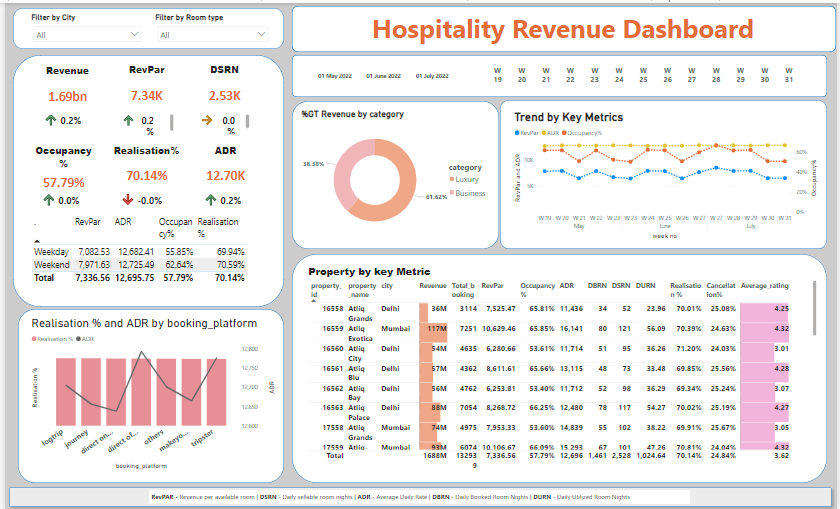

The page's visual inventory and layout, read from the dashboard file:
{"tool":"powerbi","page":{"name":"ashboard","canvas":[1800,1100],"ordinal":0},"visuals":[{"type":"shape","box":[621.5,6.5,1178,99.6],"z":0},{"type":"shape","box":[0,1039.4,1799.4,60.6],"z":1000},{"type":"shape","box":[17.3,10.8,586.8,88.8],"z":2000},{"type":"shape","box":[621.5,543.5,1158.5,495.9],"z":3000},{"type":"shape","box":[1071.9,210,708.1,322.6],"z":4000},{"type":"shape","box":[621.5,112.6,1158.5,90.9],"z":5000},{"type":"tableEx","fields":{"Values":["Key_matrics.Revenue WoW change %"]},"box":[75.7,205.1,121,85.8],"z":5000,"group":"g2"},{"type":"tableEx","fields":{"Values":["Key_matrics.Revpar WoW change %"]},"box":[243.7,207.7,125.6,84.4],"z":5000,"group":"g3"},{"type":"card","title":"RevPar","fields":{"Values":["Key_matrics.RevPar"]},"box":[222,130.1,167.2,112.2],"z":6000,"group":"g3"},{"type":"card","title":"Revenue","fields":{"Values":["Key_matrics.Revenue"]},"box":[61.4,131.2,149.6,110],"z":6000,"group":"g2"},{"type":"shape","box":[621.5,212.2,448.2,320.5],"z":6000},{"type":"shape","box":[17.3,112.6,586.8,545.7],"z":7000},{"type":"tableEx","fields":{"Values":["Key_matrics.ADR WoW change %"]},"box":[422.2,380.5,112.2,83.6],"z":7000,"group":"g6"},{"type":"tableEx","fields":{"Values":["Key_matrics.Realisation WoW change %"]},"box":[242.4,379,125.4,77],"z":8000,"group":"g5"},{"type":"shape","box":[28.1,662.6,576,376.8],"z":8000},{"type":"card","title":"Realisation%","fields":{"Values":["Key_matrics.Realisation %"]},"box":[222,306.4,167.2,107.8],"z":9000,"group":"g5"},{"type":"tableEx","title":"Property by key Metric","fields":{"Values":["dim_hotels.property_id","dim_hotels.property_name","dim_hotels.city","Key_matrics.Revenue","Key_matrics.Total_booking","Key_matrics.RevPar","Key_matrics.Occupancy%","Key_matrics.ADR","Key_matrics.DBRN","Key_matrics.DSRN","Key_matrics.DURN","Key_matrics.Realisation %"]},"box":[651.8,565.2,1110.8,450.4],"z":9000},{"type":"slicer","title":"Filter by City","fields":{"Values":["dim_hotels.city"]},"box":[52,21.7,253.3,67.1],"z":10000},{"type":"tableEx","fields":{"Values":["Key_matrics.Occupancy WoW change %"]},"box":[71.8,379.4,110,85.8],"z":10000,"group":"g4"},{"type":"slicer","title":"Filter by Room type","fields":{"Values":["dim_rooms.room_class"]},"box":[320.5,21.7,259.8,67.1],"z":11000},{"type":"tableEx","fields":{"Values":["Key_matrics.DSRN WoW change %"]},"box":[416.4,207.3,118.8,81.4],"z":11000,"group":"g1"},{"type":"card","title":"Occupancy%","fields":{"Values":["Key_matrics.Occupancy%"]},"box":[52,306.4,149.6,107.8],"z":11000,"group":"g4"},{"type":"slicer","fields":{"Values":["dim_date.mmm yy"]},"box":[636.6,125.6,363.8,65],"z":12000},{"type":"card","title":"DSRN","fields":{"Values":["Key_matrics.DSRN"]},"box":[401,130.1,149.6,112.2],"z":12000,"group":"g1"},{"type":"slicer","fields":{"Values":["dim_date.week no"]},"box":[1015.6,119.1,731.9,71.5],"z":13000},{"type":"donutChart","fields":{"Category":["dim_hotels.category"],"Y":["Key_matrics.Revenue"]},"box":[636.6,229.5,420.1,285.8],"z":14000},{"type":"lineChart","title":"Trend by Key Metrics","fields":{"Category":["dim_date.mmm yy.Variation.Date Hierarchy.Month","dim_date.week no"],"Y":["Key_matrics.RevPar","Key_matrics.ADR"],"Y2":["Key_matrics.Occupancy%"]},"box":[1097.8,231.7,664.8,285.8],"z":15000},{"type":"card","title":"ADR","fields":{"Values":["Key_matrics.ADR"]},"box":[403.5,306.4,149.6,107.8],"z":16000,"group":"g6"},{"type":"lineStackedColumnComboChart","fields":{"Y2":["Key_matrics.ADR"],"Y":["Key_matrics.Realisation %"],"Category":["fact_bookings.booking_platform"]},"box":[52,677.8,537,337.8],"z":16000},{"type":"tableEx","fields":{"Values":["dim_date.day_type","Key_matrics.RevPar","Key_matrics.ADR","Key_matrics.Occupancy%","Key_matrics.Realisation %"]},"box":[52,454.7,519.7,175.4],"z":17000},{"type":"group","id":"g1","title":"Group 1","box":[401,130.1,149.6,158.6],"z":18000},{"type":"group","id":"g2","title":"Group 2","box":[61.4,131.2,149.6,159.7],"z":19000},{"type":"group","id":"g3","title":"Group 3","box":[222,130.1,167.2,162.1],"z":20000},{"type":"group","id":"g4","title":"Group 4","box":[52,306.4,149.6,158.8],"z":21000},{"type":"group","id":"g5","title":"Group 5","box":[222,306.4,167.2,149.6],"z":22000},{"type":"group","id":"g6","title":"Group 6","box":[403.5,306.4,149.6,157.7],"z":23000},{"type":"textbox","box":[311.8,1054.5,1171.5,30.3],"z":24000},{"type":"textbox","box":[636.6,10.8,1143.3,88.8],"z":25000}]}

Visuals, with their boxes in screenshot pixels (x1, y1, x2, y2), scaled from the page's 1800x1100 canvas onto the 840x509 screenshot:
shape: l=290, t=3, r=839, b=49
shape: l=0, t=481, r=839, b=508
shape: l=8, t=5, r=282, b=46
shape: l=290, t=251, r=831, b=481
shape: l=500, t=97, r=831, b=246
shape: l=290, t=52, r=831, b=94
tableEx - Key_matrics.Revenue WoW change %: l=35, t=95, r=92, b=135
tableEx - Key_matrics.Revpar WoW change %: l=114, t=96, r=172, b=135
"RevPar" card: l=104, t=60, r=182, b=112
"Revenue" card: l=29, t=61, r=98, b=112
shape: l=290, t=98, r=499, b=246
shape: l=8, t=52, r=282, b=305
tableEx - Key_matrics.ADR WoW change %: l=197, t=176, r=249, b=215
tableEx - Key_matrics.Realisation WoW change %: l=113, t=175, r=172, b=211
shape: l=13, t=307, r=282, b=481
"Realisation%" card: l=104, t=142, r=182, b=192
"Property by key Metric" tableEx: l=304, t=262, r=823, b=470
"Filter by City" slicer: l=24, t=10, r=142, b=41
tableEx - Key_matrics.Occupancy WoW change %: l=34, t=176, r=85, b=215
"Filter by Room type" slicer: l=150, t=10, r=271, b=41
tableEx - Key_matrics.DSRN WoW change %: l=194, t=96, r=250, b=134
"Occupancy%" card: l=24, t=142, r=94, b=192
slicer - dim_date.mmm yy: l=297, t=58, r=467, b=88
"DSRN" card: l=187, t=60, r=257, b=112
slicer - dim_date.week no: l=474, t=55, r=816, b=88
donutChart - dim_hotels.category x Key_matrics.Revenue: l=297, t=106, r=493, b=238
"Trend by Key Metrics" lineChart: l=512, t=107, r=823, b=239
"ADR" card: l=188, t=142, r=258, b=192
lineStackedColumnComboChart - Key_matrics.ADR x Key_matrics.Realisation %: l=24, t=314, r=275, b=470
tableEx - dim_date.day_type x Key_matrics.RevPar: l=24, t=210, r=267, b=292
"Group 1" group: l=187, t=60, r=257, b=134
"Group 2" group: l=29, t=61, r=98, b=135
"Group 3" group: l=104, t=60, r=182, b=135
"Group 4" group: l=24, t=142, r=94, b=215
"Group 5" group: l=104, t=142, r=182, b=211
"Group 6" group: l=188, t=142, r=258, b=215
textbox: l=146, t=488, r=692, b=502
textbox: l=297, t=5, r=831, b=46
